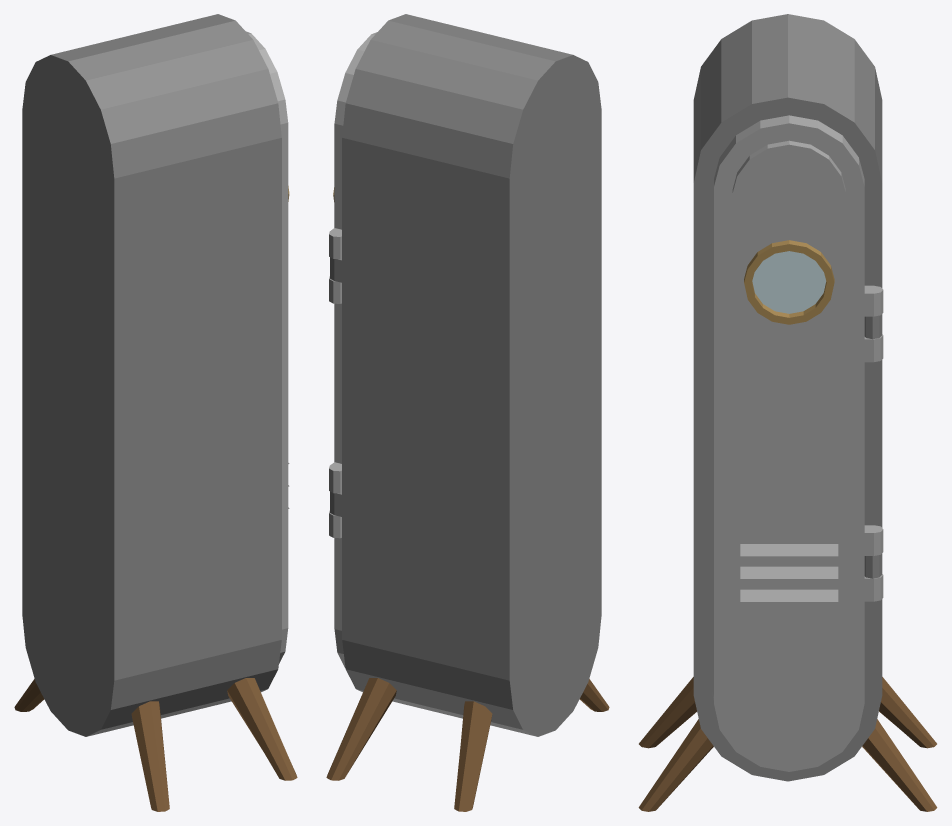
File: Locker1.fbx
The picture shows the model from 3 angles, left to right: view 1: azimuth 30°, elevation 25°; view 2: azimuth 150°, elevation 25°; view 3: azimuth 270°, elevation 25°; orthographic projection. The views are drawn at different scales.
Visible parts, largest first — view 1: Locker, Door; view 2: Locker, Door; view 3: Door, Locker.
Boxes of the visible parts, <box> form: Locker: <box>14,14,297,811</box>; Door: <box>246,31,289,663</box>; Locker: <box>326,14,609,811</box>; Door: <box>329,32,377,668</box>; Door: <box>714,115,883,771</box>; Locker: <box>638,14,937,811</box>.
Bounding box in the file's own units: 125 × 421 × 159.
